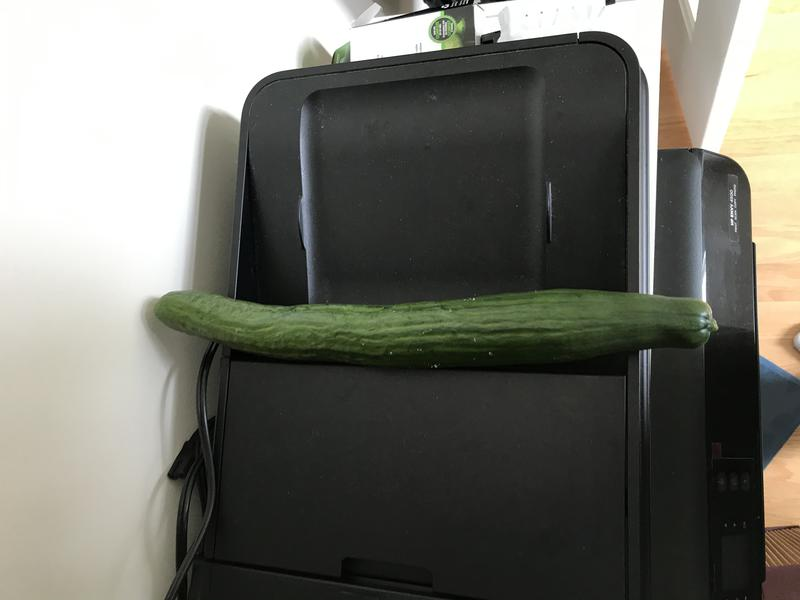cucumber: (149, 277, 724, 368)
